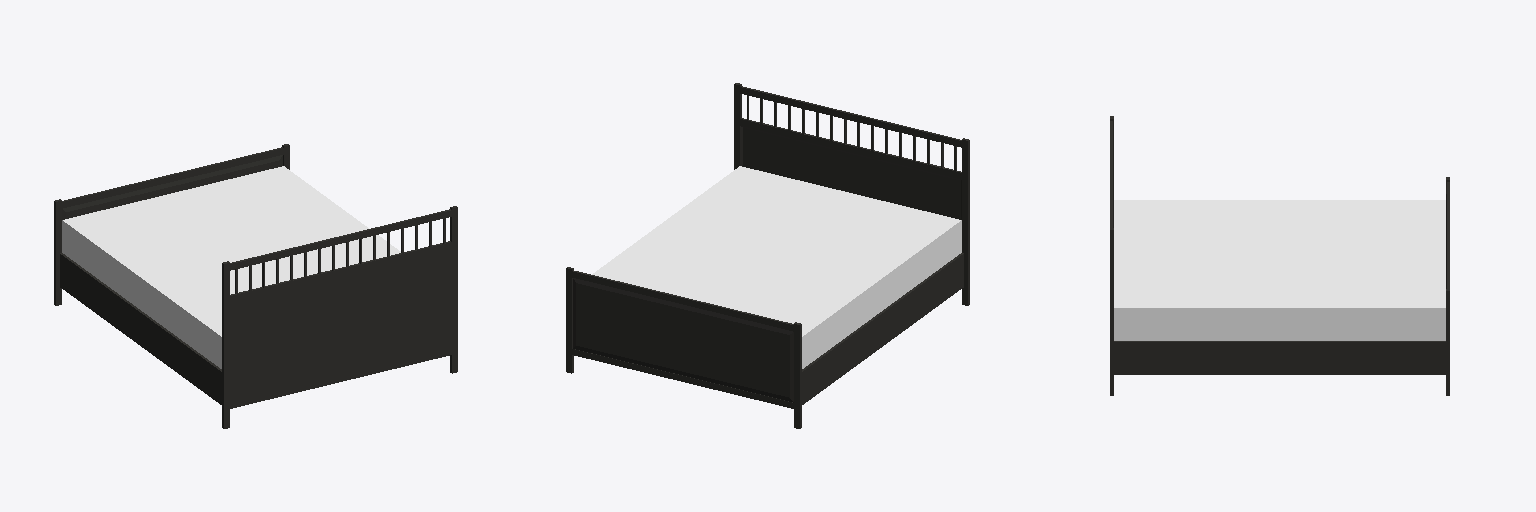
3 renders of one model, left to right at view 1: azimuth 30°, elevation 25°; view 2: azimuth 150°, elevation 25°; view 3: azimuth 270°, elevation 25°, orthographic.
Parts seen in each view (by area): view 1: Mesh1 Hemnes___Queen_Bed_Frame1 Model; view 2: Mesh1 Hemnes___Queen_Bed_Frame1 Model; view 3: Mesh1 Hemnes___Queen_Bed_Frame1 Model.
Part boxes in pixels (left/top/right/bottom): Mesh1 Hemnes___Queen_Bed_Frame1 Model: left=54, top=144, right=457, bottom=428; Mesh1 Hemnes___Queen_Bed_Frame1 Model: left=566, top=83, right=969, bottom=428; Mesh1 Hemnes___Queen_Bed_Frame1 Model: left=1110, top=116, right=1449, bottom=395.
Bounding box in the file's own units: 0.5734 × 0.3872 × 0.722.